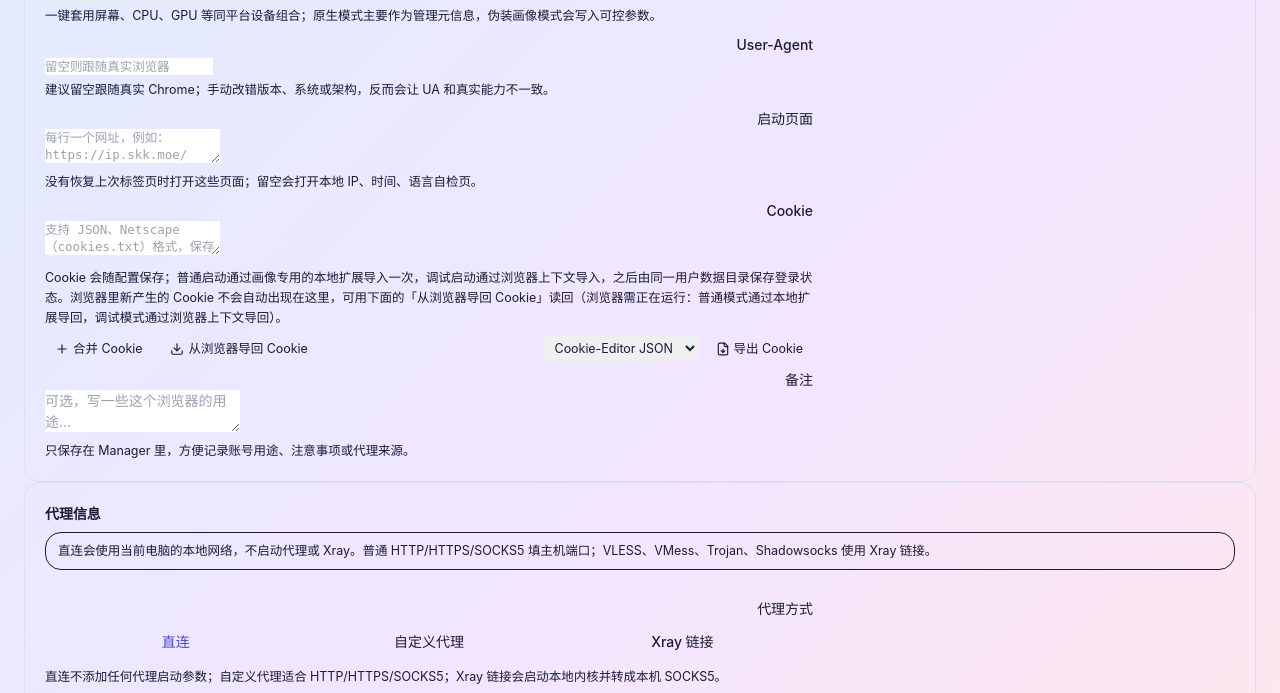
ProfileForm cookies and layout › pulls the running browser's cookies back into the form
This screenshot has width=1280, height=693.
(page scrolled)
Click the button "从浏览器导回 Cookie".
click(239, 348)  # box [160,340,318,357]
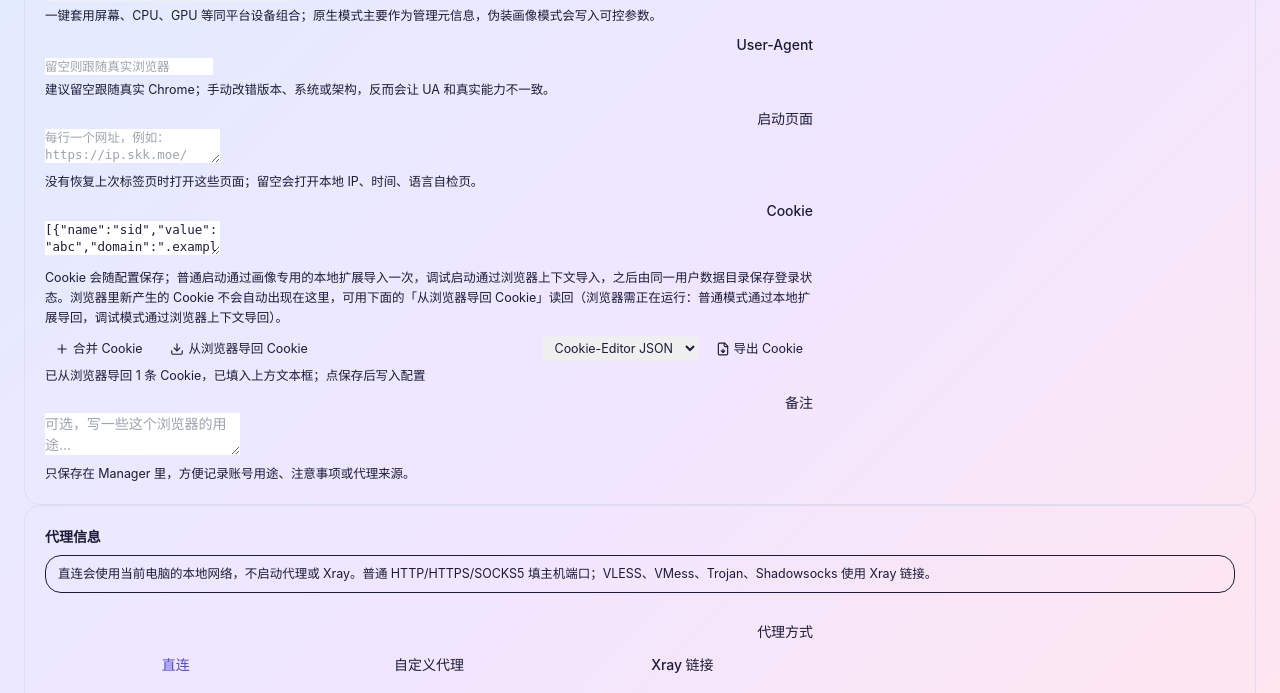
Check: the text "已从浏览器导回 1 条 Cookie，已填入上方文本框；点保存后写入配置" is shown, box [45,368,425,383]
Check: the text box with placeholder "支持 JSON、Netscape" holds "[{\"name\":\"sid\",\"value\":\"abc\",\"domain\":\".example.com\",\"path\":\"/\"}]", box [45,221,220,255]
